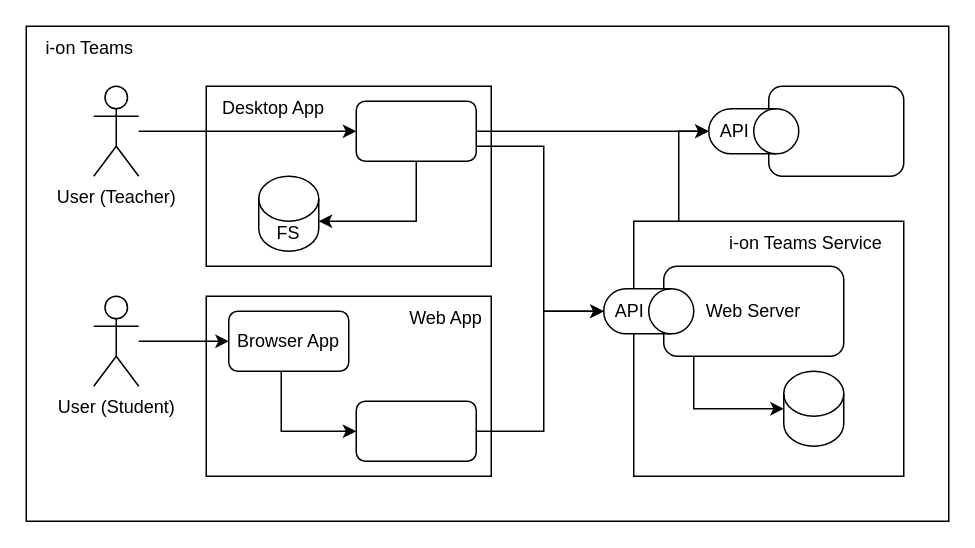
Image size: 975x548. Some labels were removed from this diagram. Here are the shapes that lost their labels. From the top down, the centre of each, then its label:
At (415,130): "Electron App".
At (835,130): "GitHub".
At (813,408): "Db".
At (415,430): "React Server".
